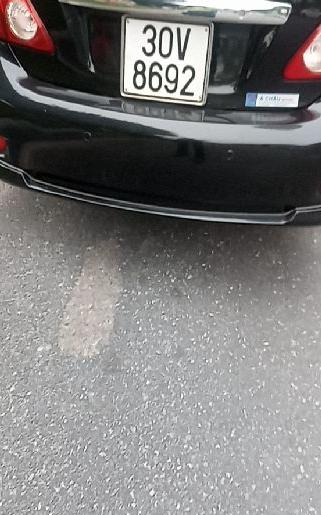Plate-iWeP: (118, 12, 212, 111)
